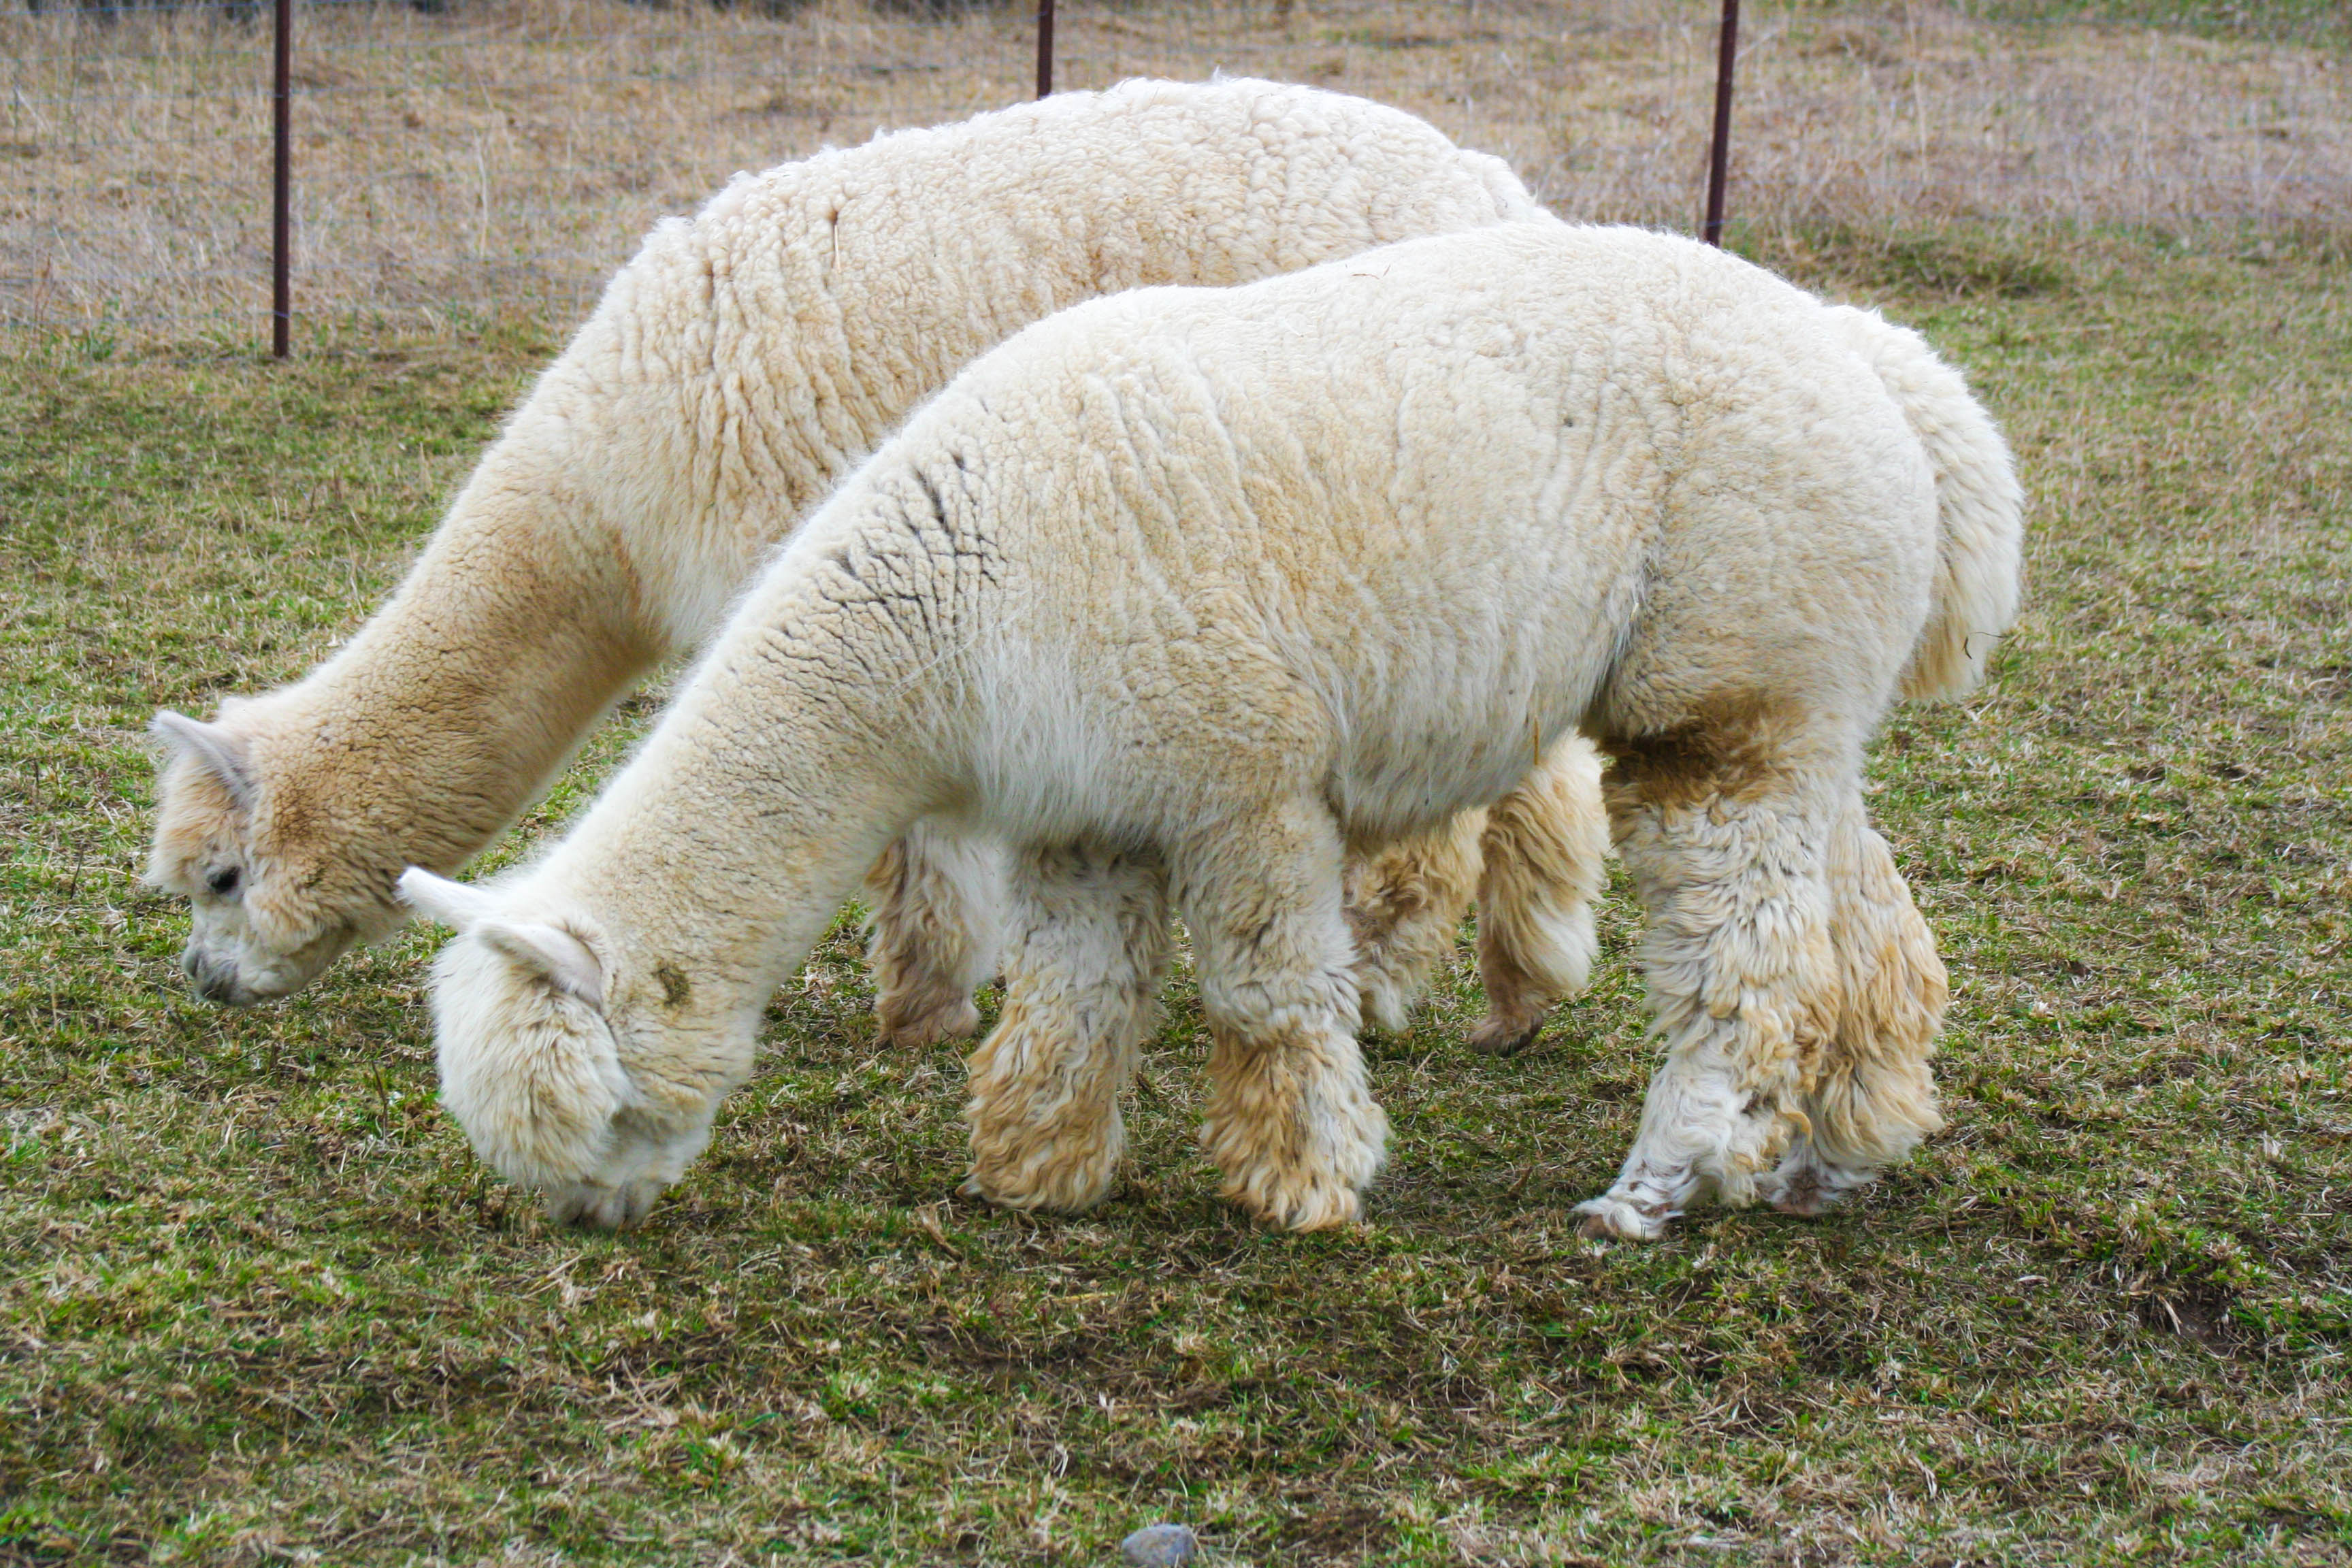alpaca: (397, 224, 2025, 1246), (140, 70, 1610, 1059)
